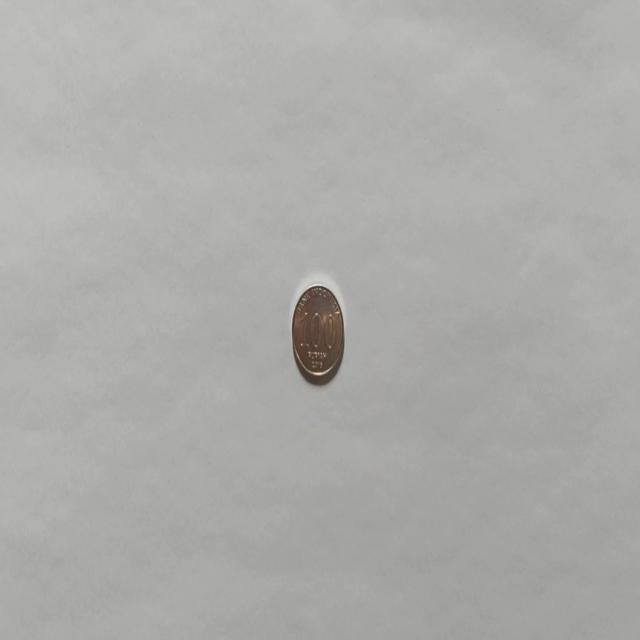seratus rupiah: (290, 282, 344, 384)
